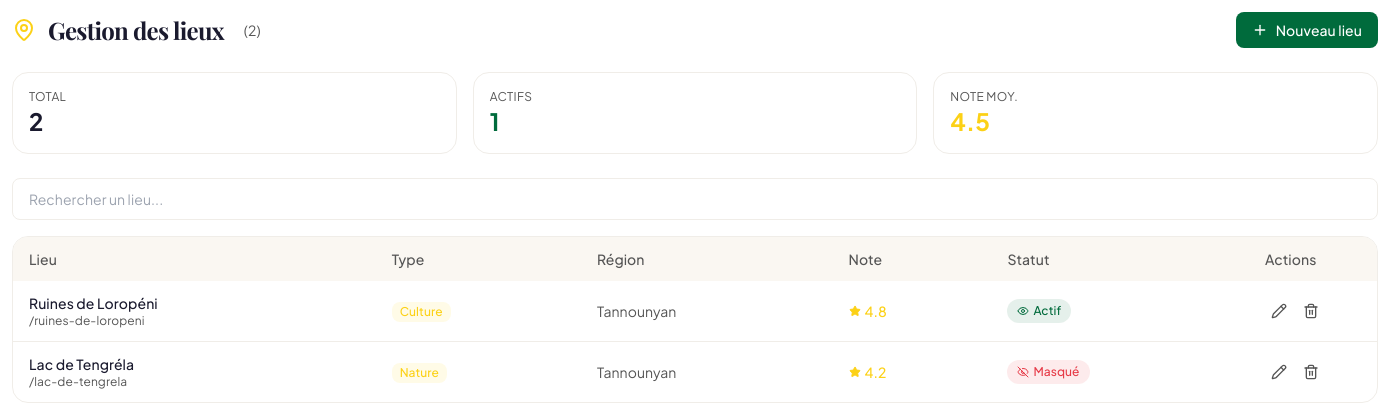
AdminLieuxPage › filters places by search
Expected: the text "Ruines de Loropéni" is shown, [29,294,158,312]
In the field with placeholder "Rechercher un lieu...": (695, 199) [12,178,1378,220], type "tengréla"
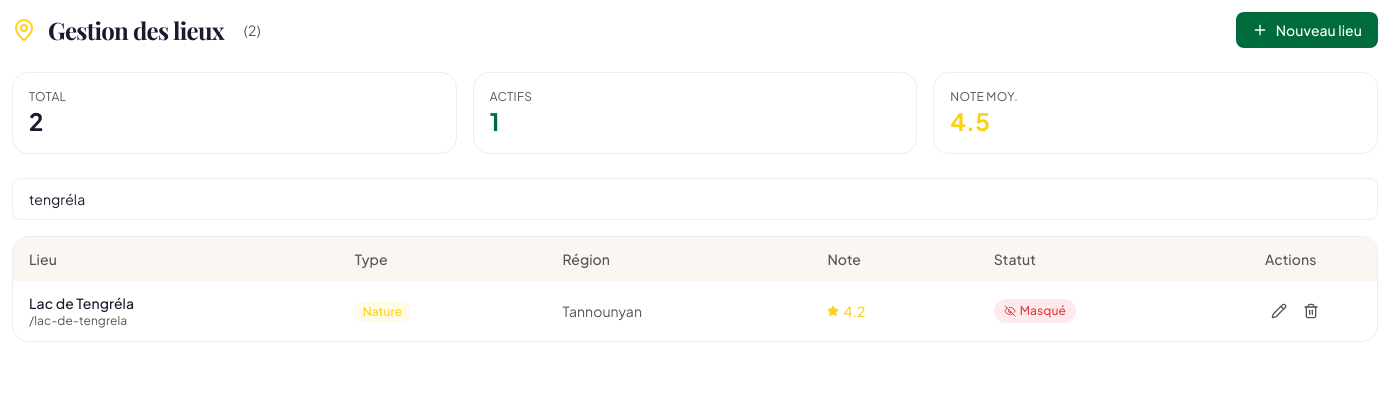
Expected: the text "Lac de Tengréla" is shown, [29,294,134,312]
Expected: the text "Ruines de Loropéni" is gone
